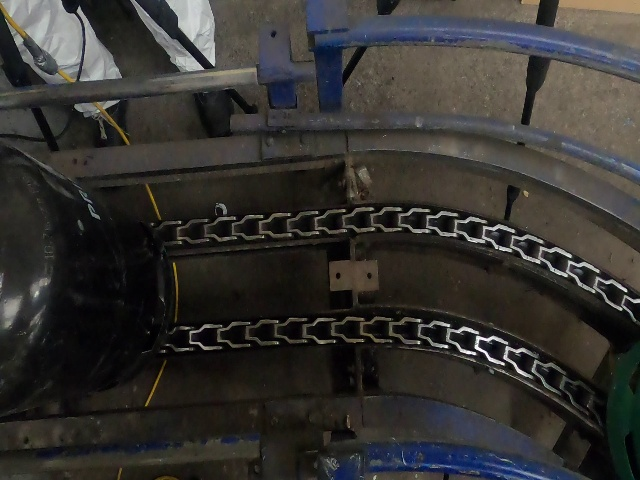gas_bottle: (6, 2, 640, 479)
